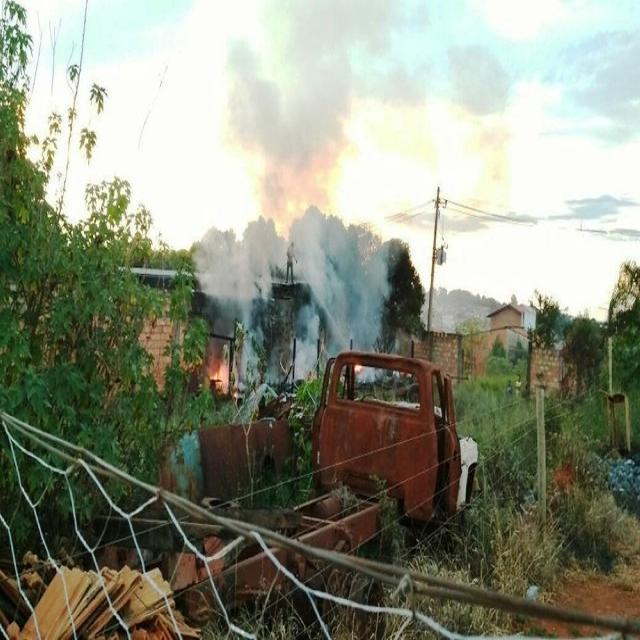smoke: (304, 222, 362, 356), (211, 246, 276, 321)
